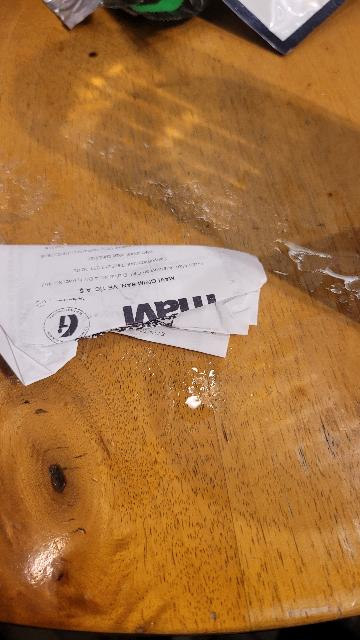Kagit: (0, 243, 267, 386)
